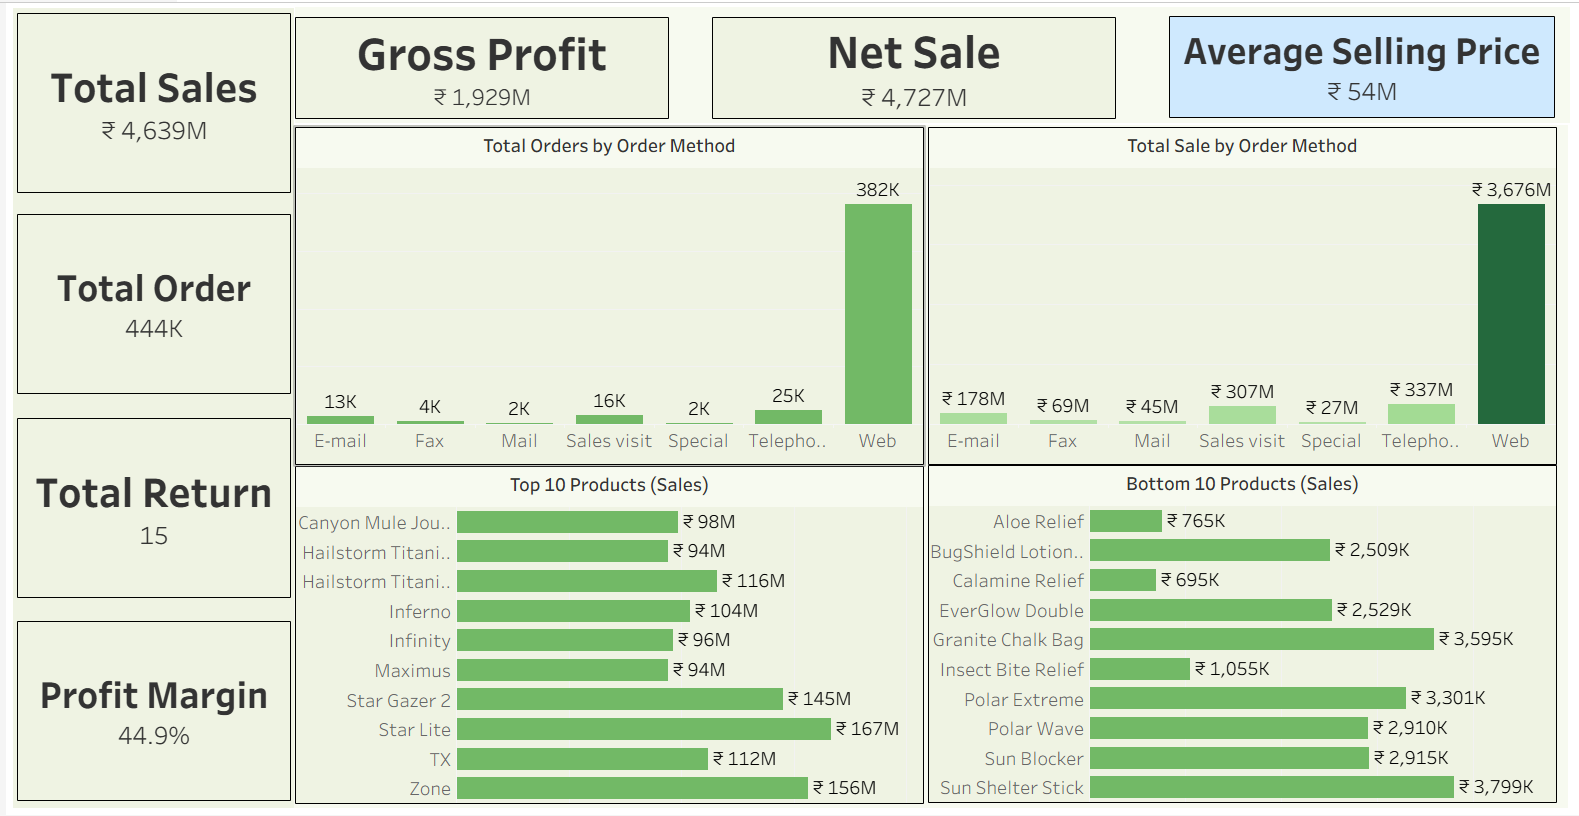

The dashboard page shown, as its layout file describes it:
{"tool":"tableau","page":{"name":"Summary Dashboard","canvas":[1000,1000],"units":"permille","ordinal":2},"visuals":[{"type":"worksheet","title":"Total Sales","mark":"Automatic","box":[7,12.3,174,221.7]},{"type":"worksheet","title":"Average Selling Price ","mark":"Automatic","box":[738.4,16,245.1,125.6]},{"type":"worksheet","title":"Gross Profit","mark":"Automatic","box":[183.5,17.2,237.5,125.6]},{"type":"worksheet","title":"Net Sale","mark":"Automatic","box":[448.2,17.2,256.5,125.6]},{"type":"worksheet","title":"Total Orders by Order Method","mark":"Automatic","rows":["Calculation_554224234908151816"],"cols":["METHOD_NAME"],"box":[183.5,152.7,399.6,416.3]},{"type":"worksheet","title":"Total Sale by Order Method","mark":"Automatic","rows":["SALE_TOTAL"],"cols":["METHOD_NAME"],"box":[585.1,152.7,399.6,416.3]},{"type":"worksheet","title":"Total Order","mark":"Text","box":[7,259.9,174,221.7]},{"type":"worksheet","title":"Total Return","mark":"Automatic","box":[7,511.1,174,221.7]},{"type":"worksheet","title":"Bottom 10 Products (Sales)","mark":"Automatic","rows":["PRODUCT_NAME (TBL_DIM_PRODUCT_NAME_LKP.csv)"],"cols":["SALE_TOTAL"],"box":[585.1,569,399.6,416.3]},{"type":"worksheet","title":"Top 10 Products (Sales)","mark":"Automatic","rows":["PRODUCT_NAME (TBL_DIM_PRODUCT_NAME_LKP.csv)"],"cols":["SALE_TOTAL"],"box":[183.5,570.2,399.6,416.3]},{"type":"worksheet","title":"Profit Margin %","mark":"Automatic","box":[7,761.1,174,221.7]}]}

Visuals, with their boxes on the dashboard's canvas, which has no fixed pixel size, in thousandths of its width and height (x1, y1, x2, y2). These are canvas units, not pixel positions in the 1579x816 screenshot, which may show the page scaled, cropped or inside an application window:
"Total Sales" worksheet: (7,12,181,234)
"Average Selling Price " worksheet: (738,16,984,142)
"Gross Profit" worksheet: (184,17,421,143)
"Net Sale" worksheet: (448,17,705,143)
"Total Orders by Order Method" worksheet: (184,153,583,569)
"Total Sale by Order Method" worksheet: (585,153,985,569)
"Total Order" worksheet (Text marks): (7,260,181,482)
"Total Return" worksheet: (7,511,181,733)
"Bottom 10 Products (Sales)" worksheet: (585,569,985,985)
"Top 10 Products (Sales)" worksheet: (184,570,583,986)
"Profit Margin %" worksheet: (7,761,181,983)
